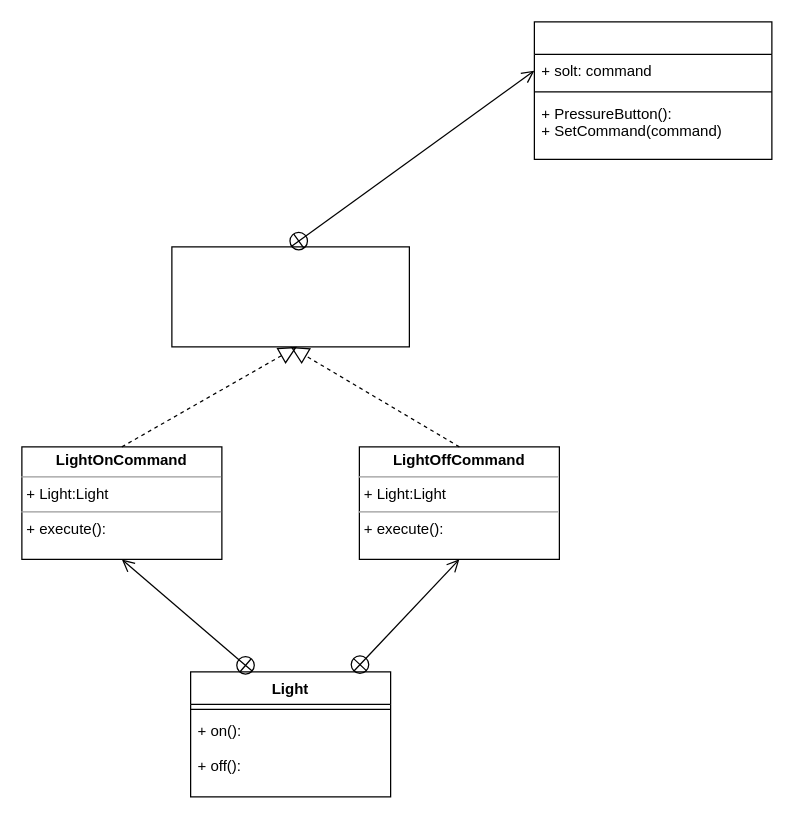
This 794x823 diagram has some shape labels left out. Here are the shapes that lost their labels. From the top down, the box of each, then its label:
(533, 21, 772, 159): Controller
(171, 246, 409, 347): <<Interface>> command + execute ()
